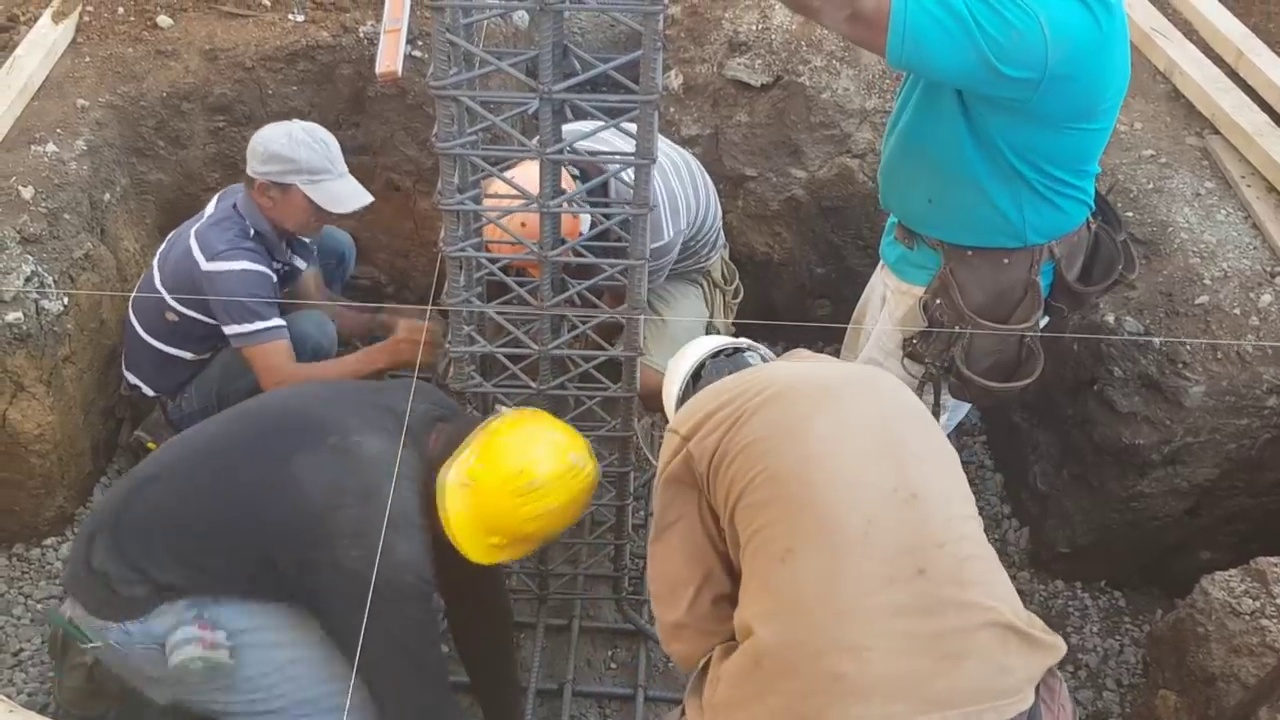helmet: (442, 404, 596, 577), (487, 173, 597, 266), (662, 340, 773, 431)
helmet-off: (236, 120, 378, 237)
helmet-on: (402, 401, 598, 583), (484, 120, 603, 258), (660, 331, 784, 438)
person: (47, 381, 600, 718), (637, 336, 1067, 711), (811, 4, 1139, 455), (100, 120, 444, 433), (481, 122, 742, 385)
